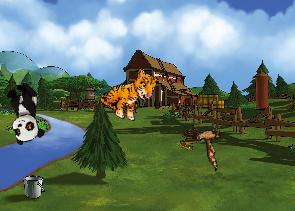eagle: (179, 114, 238, 171)
panda: (2, 80, 46, 145)
tiger: (96, 58, 161, 127)
